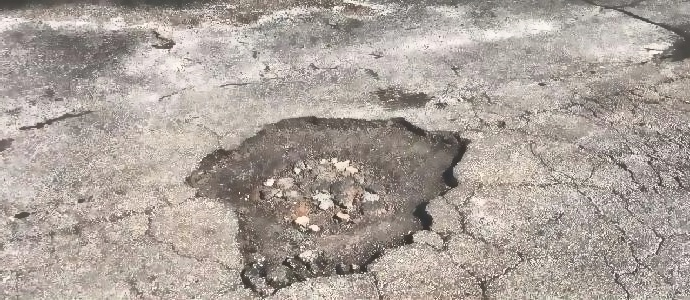pothole: (182, 108, 474, 294)
